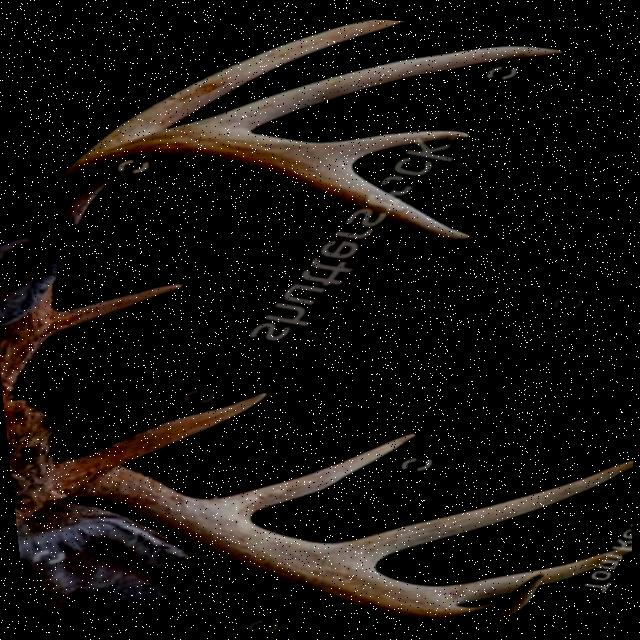E1: (336, 125, 471, 157)
L-G1: (48, 281, 184, 334)
L-G2: (79, 15, 406, 159)
L-G3: (179, 40, 563, 130)
R-F: (47, 459, 545, 625)
R-G1: (70, 389, 270, 474)
R-G2: (217, 428, 418, 513)
R-G3: (342, 452, 635, 557)
